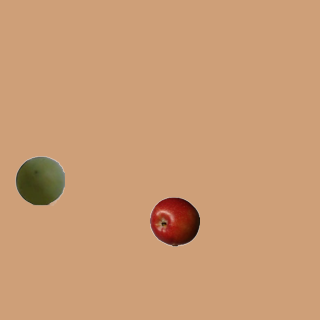Apple Braeburn: (149, 196, 199, 246)
Grape White 4: (14, 155, 64, 205)
